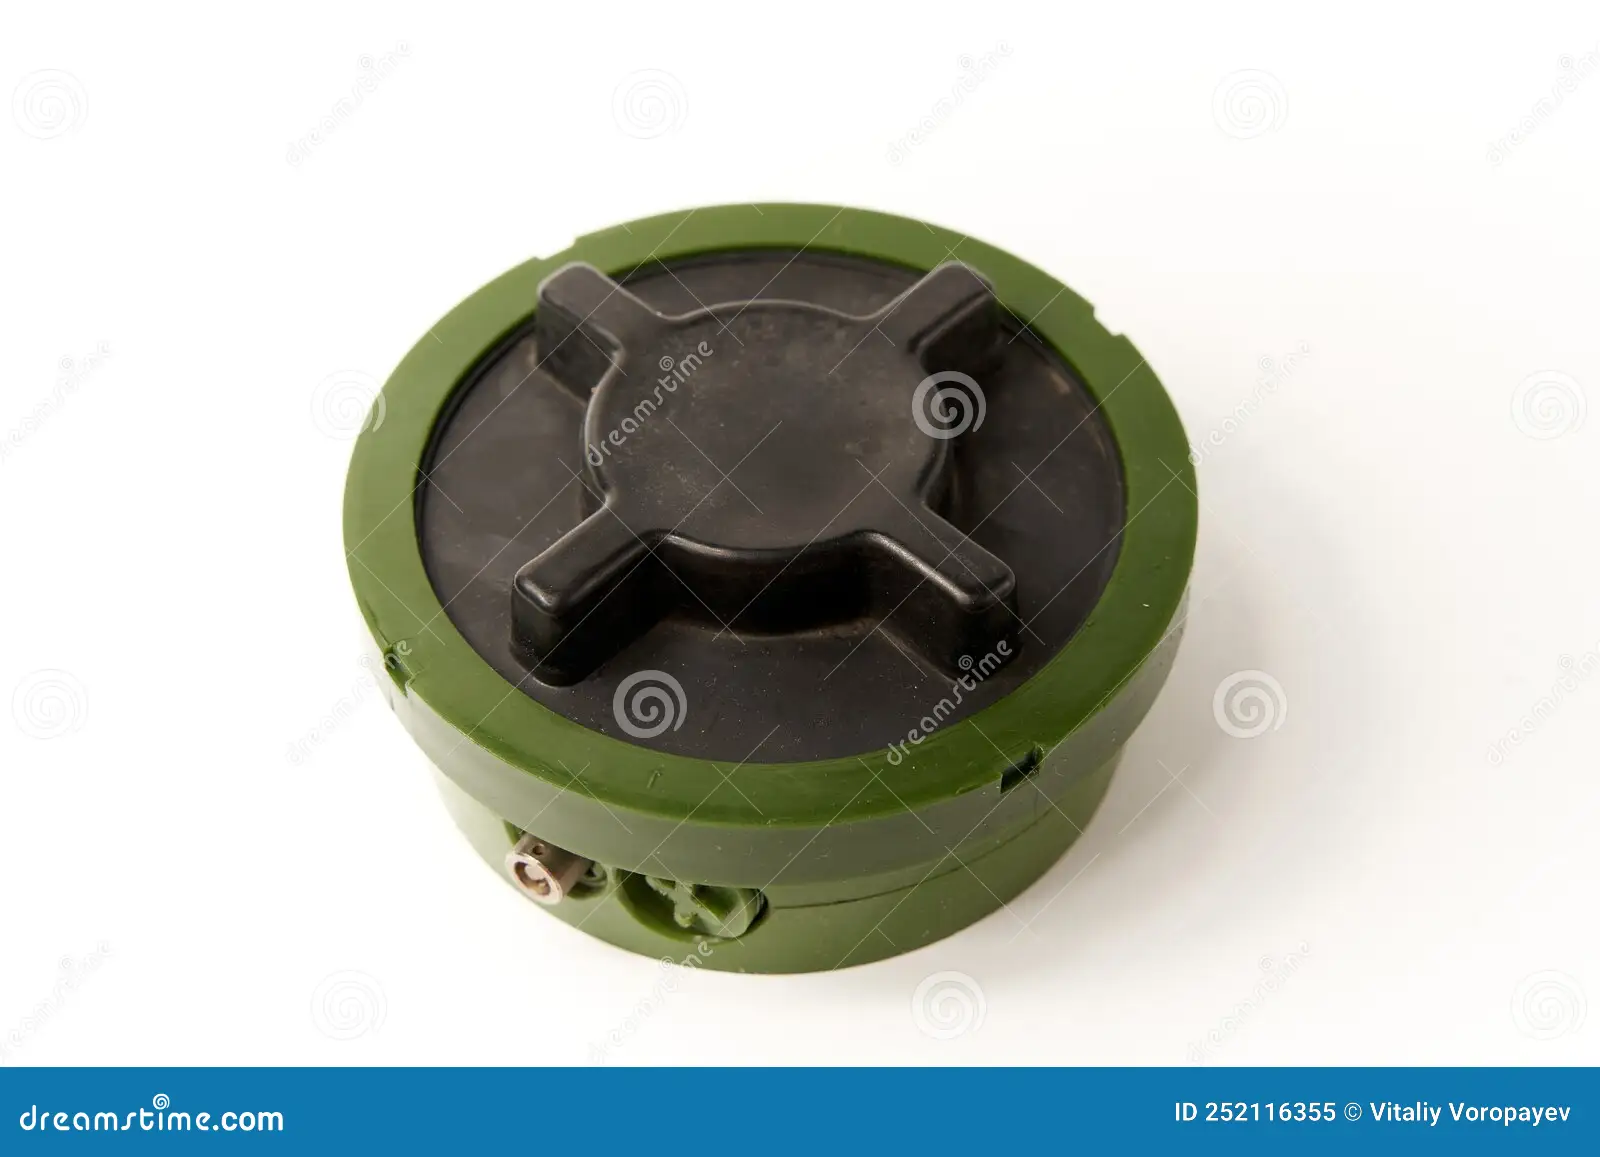PMN 2: (344, 191, 1205, 974)
